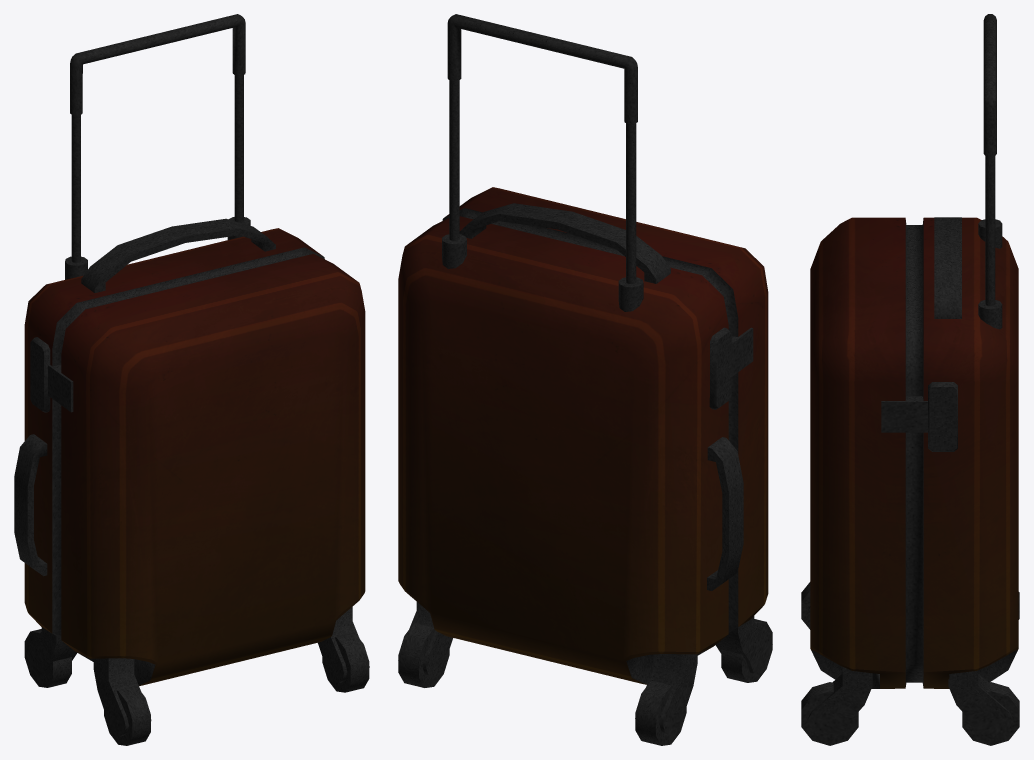
File: suitcase_5.fbx
The picture shows the model from 3 angles, left to right: view 1: azimuth 30°, elevation 25°; view 2: azimuth 150°, elevation 25°; view 3: azimuth 270°, elevation 25°; orthographic projection. The views are drawn at different scales.
Parts seen in each view (by area): view 1: suitcase_5; view 2: suitcase_5; view 3: suitcase_5.
Boxes of the visible parts, x1,y1,x2,y2 form: suitcase_5: [14, 14, 369, 745]; suitcase_5: [398, 14, 772, 745]; suitcase_5: [801, 14, 1019, 745].
Size of the model in its own units: 0.7689 by 1.52 by 0.4749.
